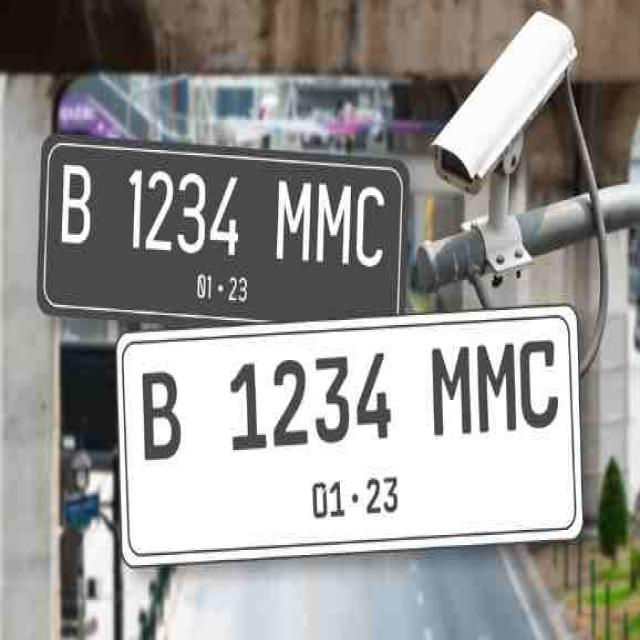license-plat: (111, 314, 605, 566)
